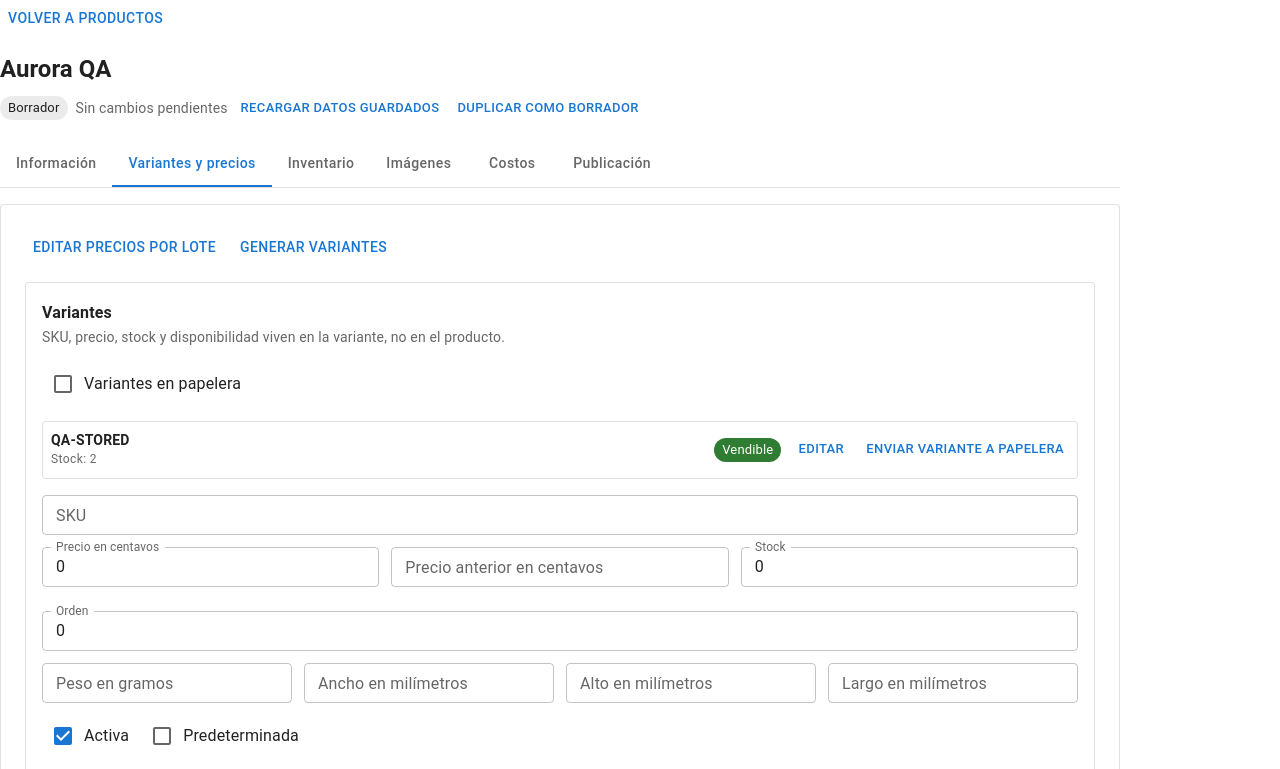
Test case: routed product workspace › guards batch drafts before switching editors or duplicating the saved product
Click the button "Editar precios por lote" at [125, 248], box [25,229,224,266]
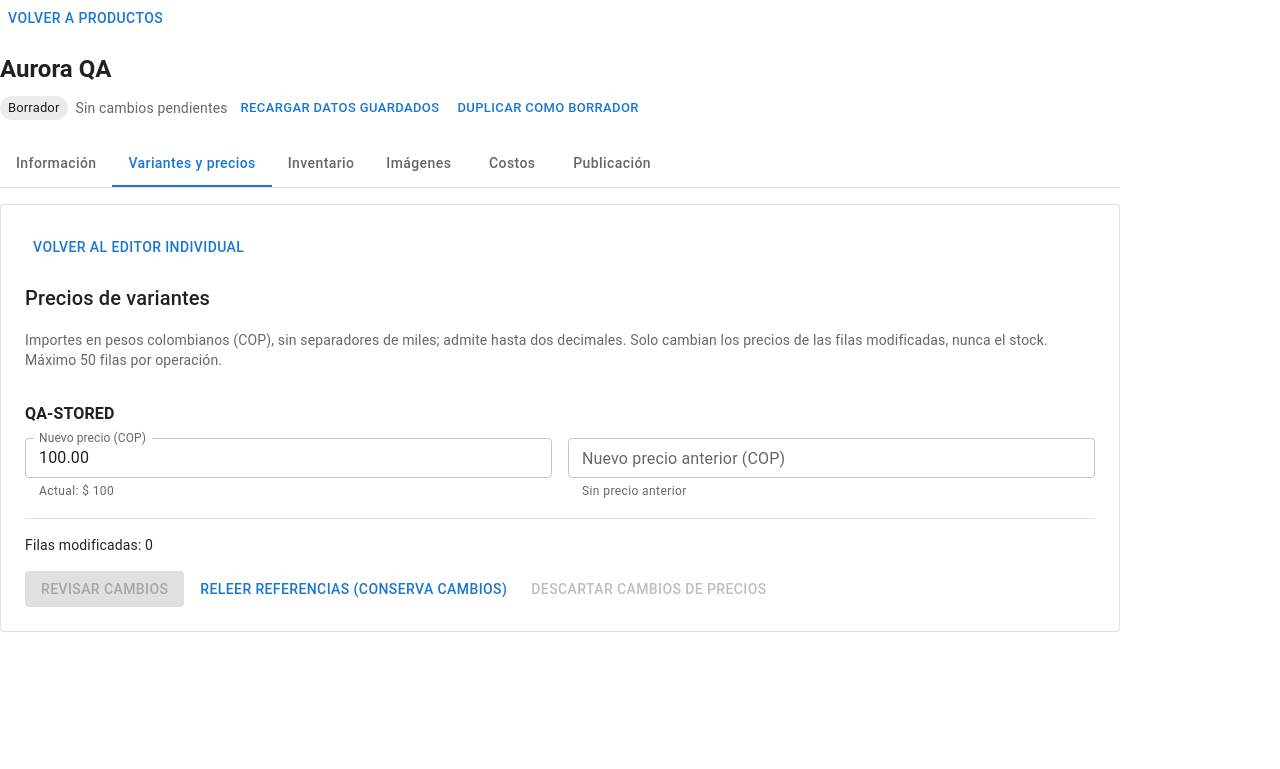
Replace the text in the field labelled "Nuevo precio (COP)" with "1234.56" at [288, 458], box [25,438,552,478]
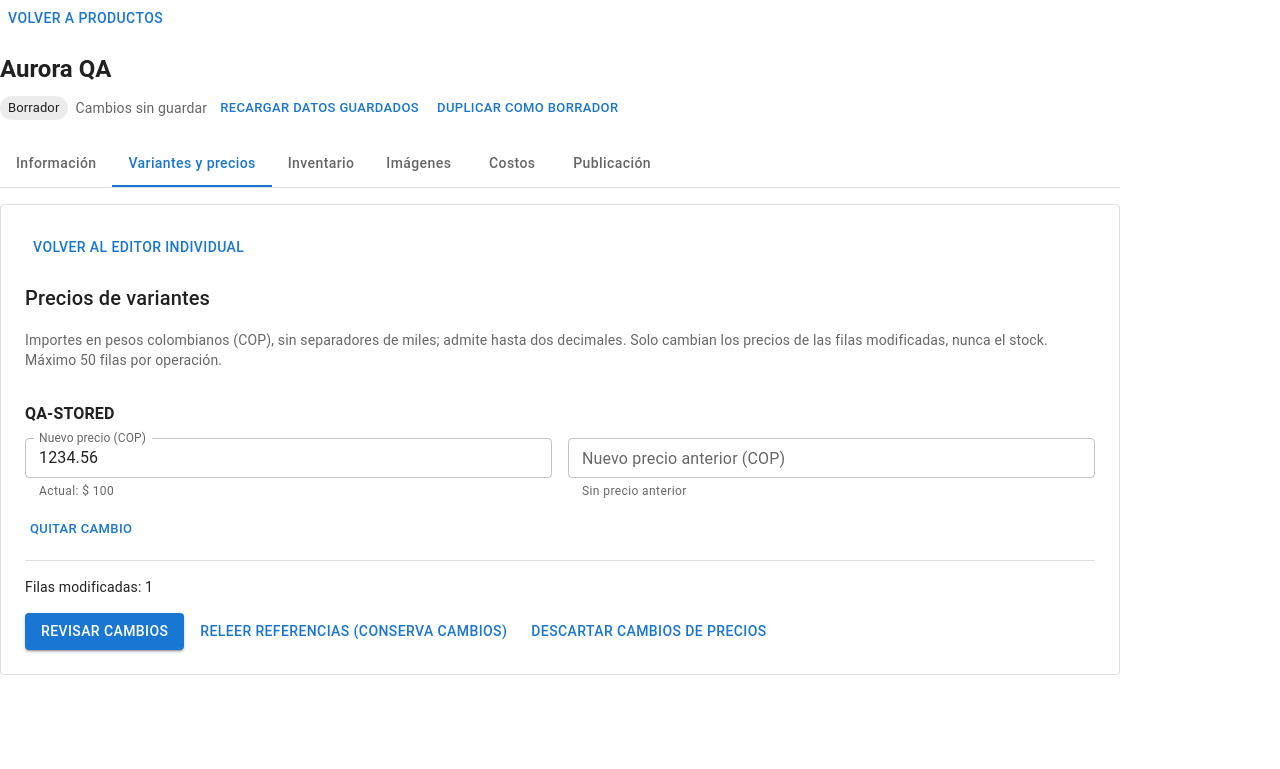
Click the button "Volver al editor individual" at [139, 248], box [25,229,252,266]
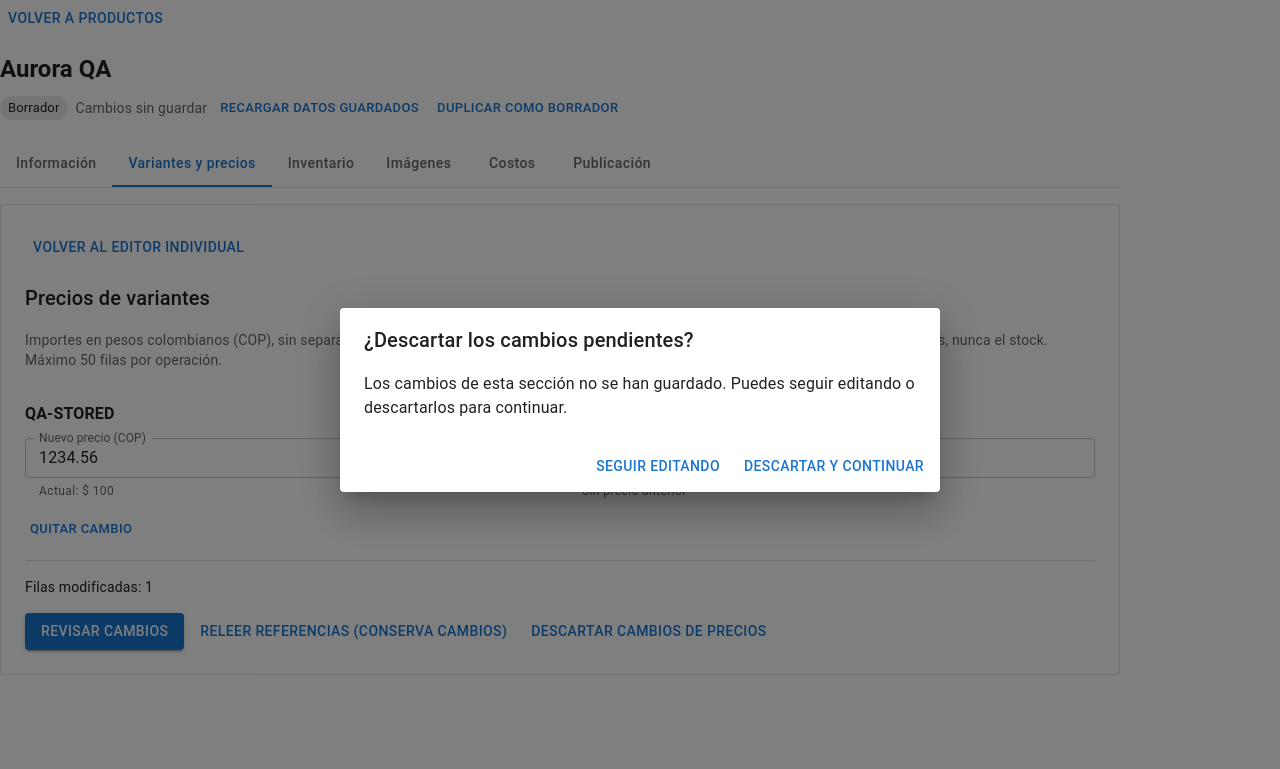
Expected: the dialog shows "¿Descartar los cambios pendientes?", [364,328,694,352]
Click the button "Seguir editando" at [658, 466], box [588,448,728,484]
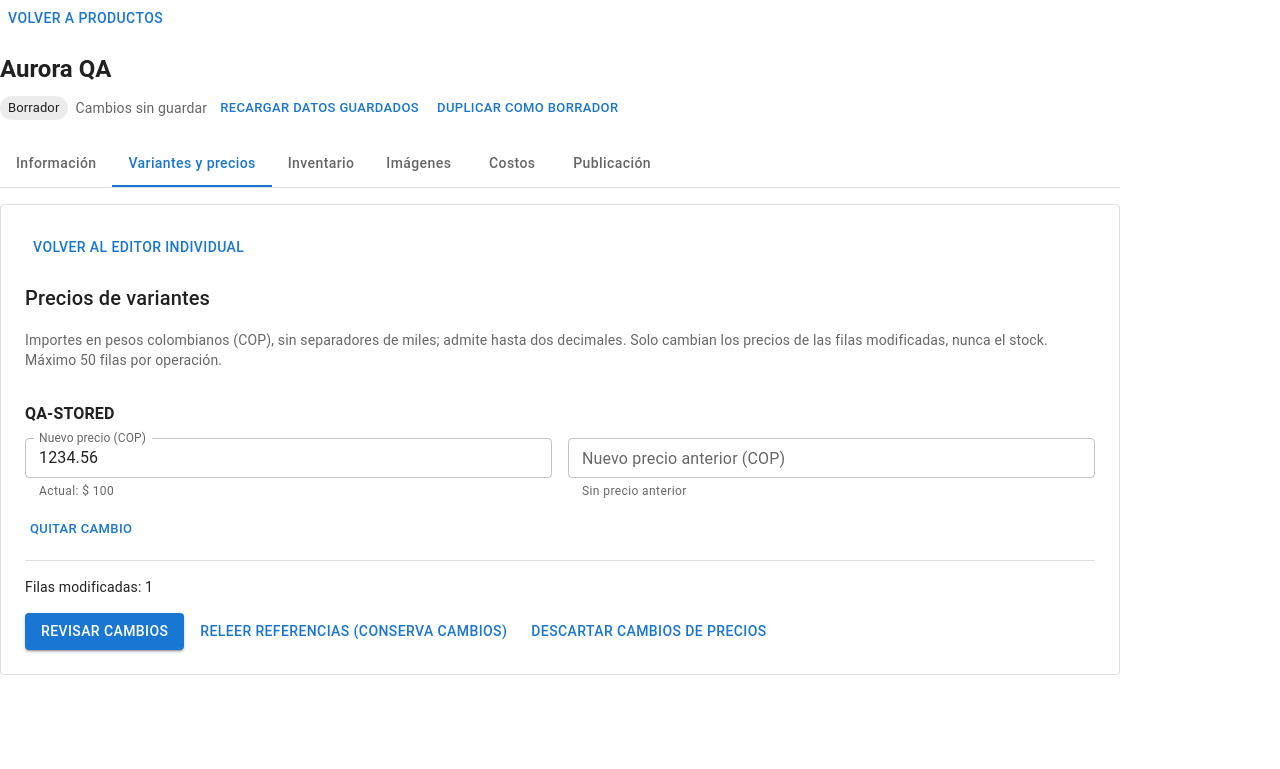
Expected: the dialog is gone
Click the button "Duplicar como borrador" at [528, 108], box [432,92,623,123]
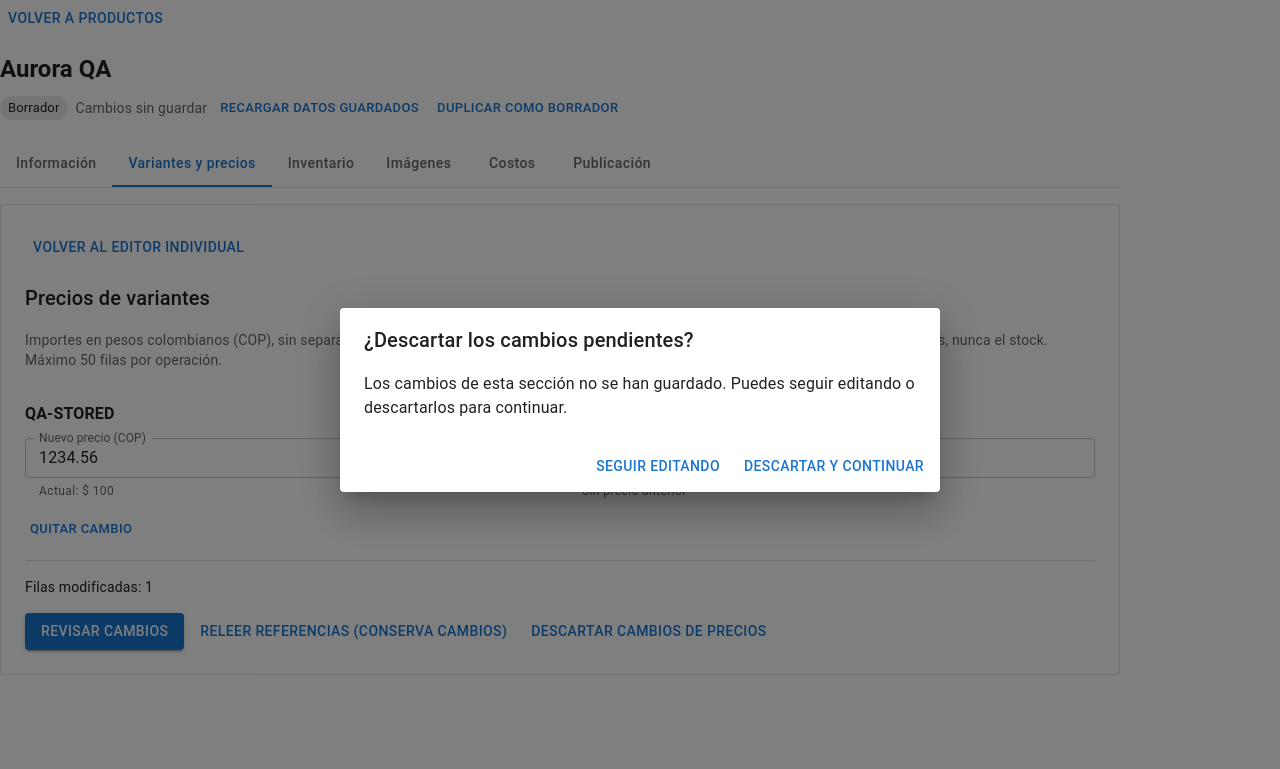
Click the button "Descartar y continuar" at [834, 466], box [736,448,932,484]
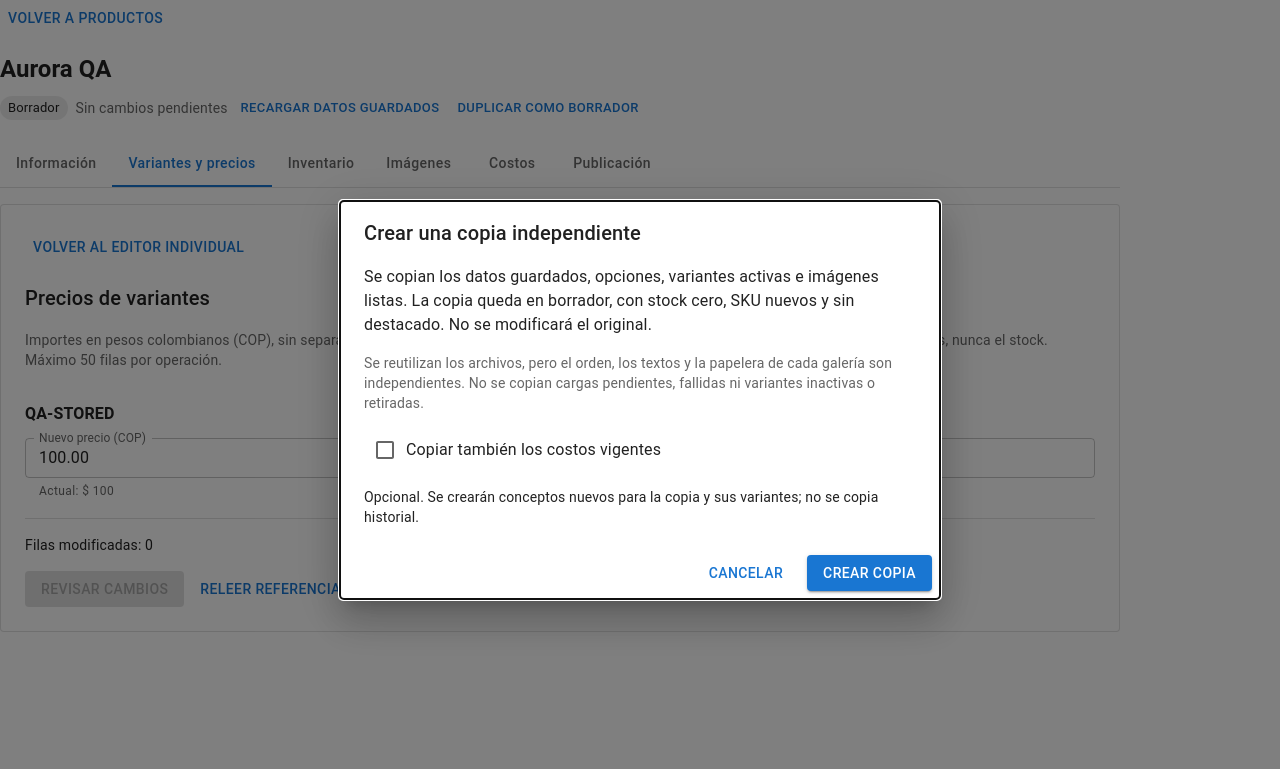
Expected: the dialog "Crear una copia independiente" is shown, [340,201,940,599]
Expected: the checkbox labelled "Copiar también los costos vigentes" is not checked, [373,438,661,462]
